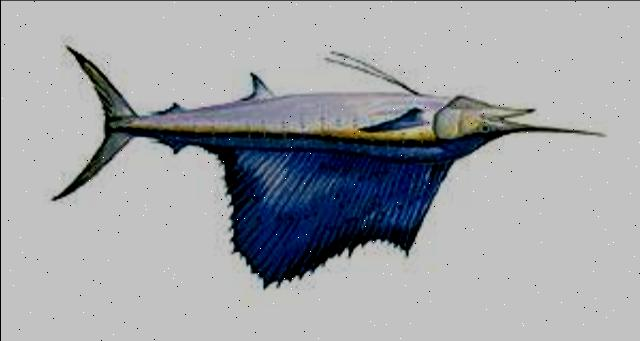Mulut: (470, 90, 616, 160)
Sirip Anal: (152, 93, 188, 161)
Sirip Dada: (350, 99, 436, 142)
Sirip Ekor: (43, 40, 145, 208)
Sirip Perut: (234, 67, 282, 107)
Sirip Punggung: (194, 134, 463, 296)
